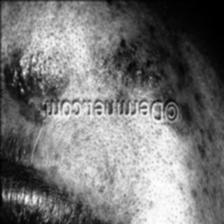Toxin: (8, 51, 39, 119), (120, 53, 159, 87)
